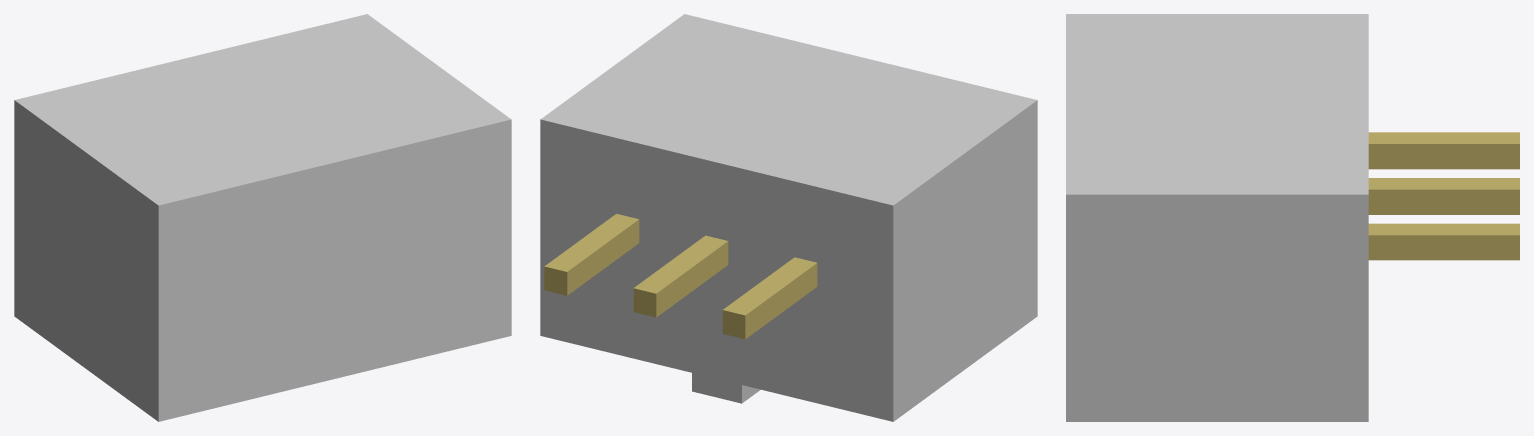
Rendered from yeonho_smw250_03p.glb.
The picture shows the model from 3 angles, left to right: view 1: azimuth 30°, elevation 25°; view 2: azimuth 150°, elevation 25°; view 3: azimuth 270°, elevation 25°; orthographic projection. The views are drawn at different scales.
Parts seen in each view (by area): view 1: housing; view 2: housing, pins; view 3: housing, pins.
Part boxes in pixels (x1=…): housing: x1=14, y1=14, x2=511, y2=421; housing: x1=540, y1=14, x2=1037, y2=421; pins: x1=544, y1=214, x2=817, y2=339; housing: x1=1066, y1=14, x2=1368, y2=421; pins: x1=1368, y1=132, x2=1519, y2=260.
Size of the model in its own units: 9.9 by 6.3 by 10.5.
